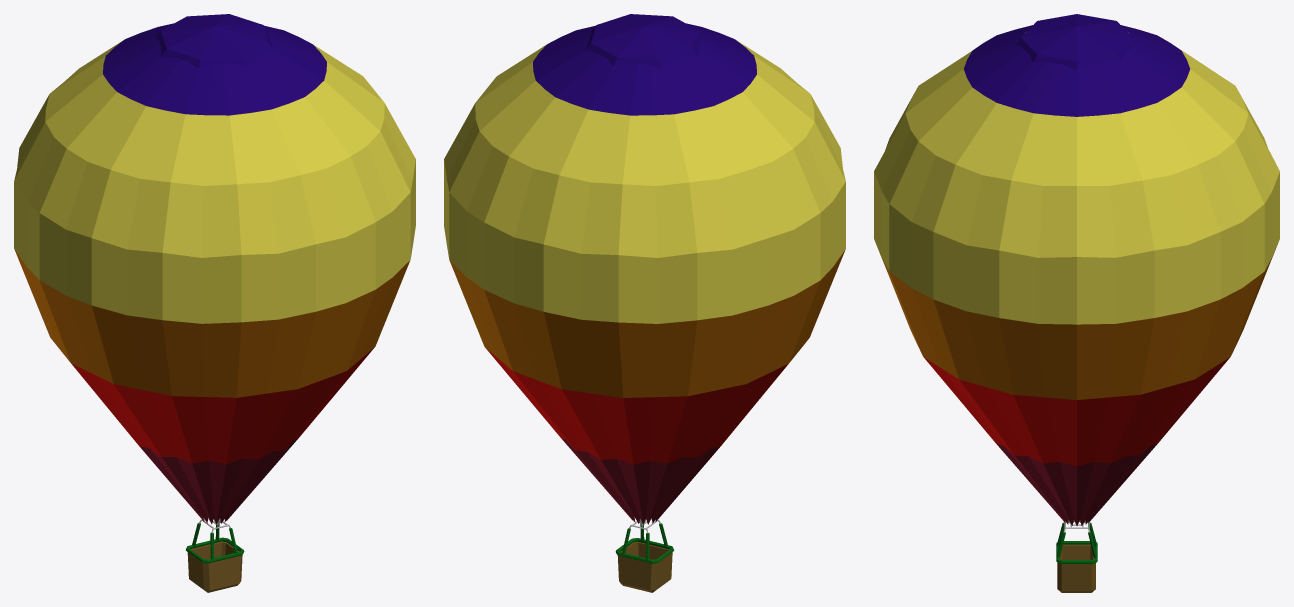
Rendered from balloon.fbx.
3 views of the same model, side by side, from view 1: azimuth 30°, elevation 25°; view 2: azimuth 150°, elevation 25°; view 3: azimuth 270°, elevation 25° (orthographic).
Parts seen in each view (by area): view 1: balloon; view 2: balloon; view 3: balloon.
Part boxes in pixels (x1,y1,x2,y2): balloon: [14, 14, 415, 592]; balloon: [444, 14, 845, 592]; balloon: [874, 14, 1279, 592].
Size of the model in its own units: 11.85 by 11.85 by 18.01.
